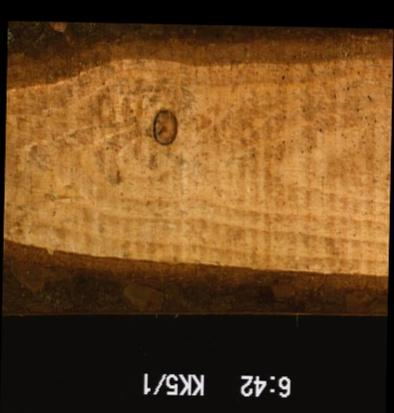dry_knot: (151, 108, 178, 146)
wave: (1, 243, 386, 319), (5, 23, 391, 95)
